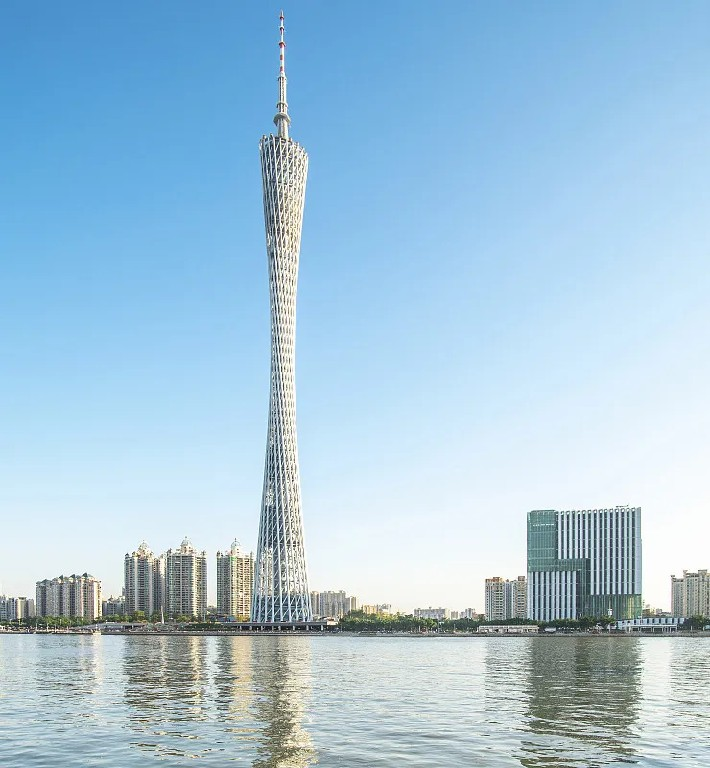Canton: (251, 9, 315, 625)
